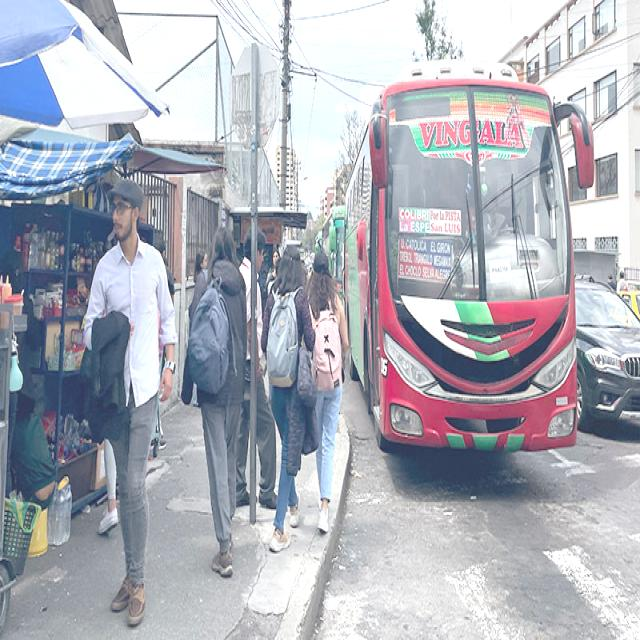BUS: (347, 84, 585, 472)
